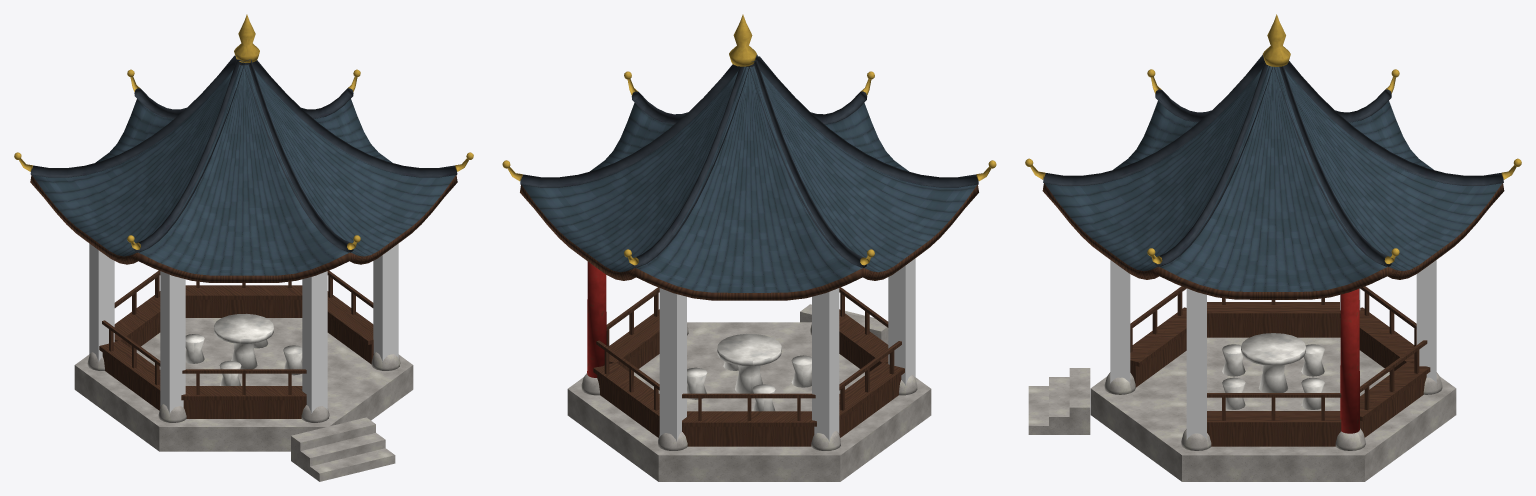
Rendered from pavilion.glb.
The picture shows the model from 3 angles, left to right: view 1: azimuth 30°, elevation 25°; view 2: azimuth 150°, elevation 25°; view 3: azimuth 270°, elevation 25°; orthographic projection. The views are drawn at different scales.
Visible parts, largest first — view 1: PavilionRoof, PavilionBase, PavilionBenches, PavilionRoofRidges, StoneTable, PavilionPillar-convcolonly.003, PavilionPillar-convcolonly.004, PavilionPillar-convcolonly.005, PavilionPillar-convcolonly.002, PavilionRoofOrnaments, PavilionPillarBases; view 2: PavilionRoof, PavilionBase, PavilionBenches, PavilionRoofRidges, StoneTable, PavilionPillar-convcolonly.002, PavilionPillar-convcolonly.001, PavilionPillar-convcolonly.003, PavilionPillars, PavilionRoofOrnaments, PavilionPillarBases; view 3: PavilionRoof, PavilionBase, PavilionBenches, PavilionRoofRidges, StoneTable, PavilionPillar-convcolonly.005, PavilionPillars, PavilionPillar-convcolonly.004, PavilionPillar-convcolonly.001, PavilionPillarBases, PavilionRoofOrnaments.
Boxes of the visible parts, box(x1,y1,x2,y2) form: PavilionRoof: box(30, 64, 457, 282); PavilionBase: box(74, 318, 413, 481); PavilionBenches: box(99, 270, 373, 418); PavilionRoofRidges: box(30, 55, 457, 252); StoneTable: box(185, 313, 302, 385); PavilionPillar-convcolonly.003: box(160, 271, 185, 413); PavilionPillar-convcolonly.004: box(302, 271, 327, 413); PavilionPillar-convcolonly.005: box(373, 243, 398, 362); PavilionPillar-convcolonly.002: box(89, 243, 114, 361); PavilionRoofOrnaments: box(14, 14, 473, 249); PavilionPillarBases: box(87, 352, 400, 422); PavilionRoof: box(520, 66, 978, 300); PavilionBase: box(567, 304, 931, 481); PavilionBenches: box(593, 287, 904, 446); PavilionRoofRidges: box(520, 54, 978, 267); StoneTable: box(687, 333, 811, 411); PavilionPillar-convcolonly.002: box(812, 288, 839, 441); PavilionPillar-convcolonly.001: box(659, 288, 686, 441); PavilionPillar-convcolonly.003: box(888, 258, 915, 385); PavilionPillars: box(587, 261, 606, 377); PavilionRoofOrnaments: box(502, 14, 996, 265); PavilionPillarBases: box(581, 324, 917, 450); PavilionRoof: box(1042, 65, 1504, 299); PavilionBase: box(1028, 337, 1456, 481); PavilionBenches: box(1130, 286, 1430, 446); PavilionRoofRidges: box(1043, 55, 1503, 266); StoneTable: box(1222, 333, 1324, 409); PavilionPillar-convcolonly.005: box(1186, 288, 1206, 439); PavilionPillars: box(1340, 289, 1359, 433); PavilionPillar-convcolonly.004: box(1110, 260, 1130, 383); PavilionPillar-convcolonly.001: box(1416, 260, 1436, 383); PavilionPillarBases: box(1104, 372, 1442, 450); PavilionRoofOrnaments: box(1025, 14, 1521, 263).
Size of what is drawn, in the model's own units: 7.31 by 7.55 by 8.43.
Materials: 8 (8 with a texture image).
